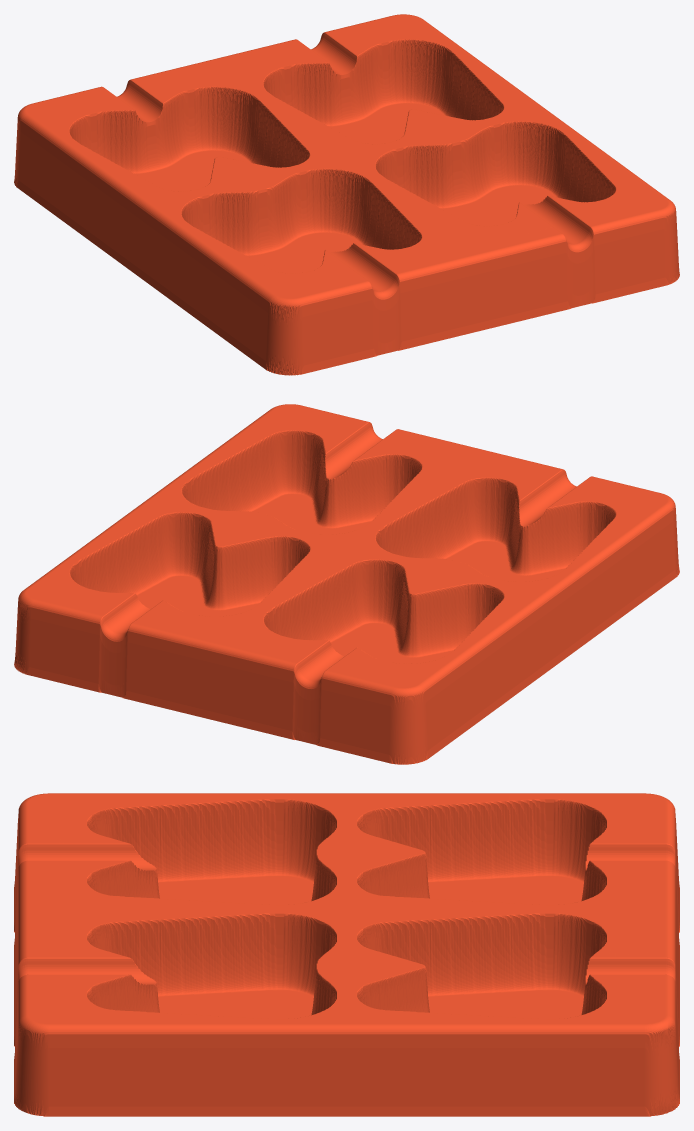
The model's file is mold.glb.
The picture shows the model from 3 angles, top to bottom: view 1: azimuth 30°, elevation 25°; view 2: azimuth 150°, elevation 25°; view 3: azimuth 270°, elevation 25°; orthographic projection. The views are drawn at different scales.
Parts seen in each view (by area): view 1: geometry_0; view 2: geometry_0; view 3: geometry_0.
Boxes of the visible parts, bbox=[...] form: geometry_0: bbox=[14, 14, 679, 375]; geometry_0: bbox=[14, 404, 679, 764]; geometry_0: bbox=[14, 793, 679, 1116].
Bounding box in the file's own units: 0.1468 × 0.0245 × 0.171.
